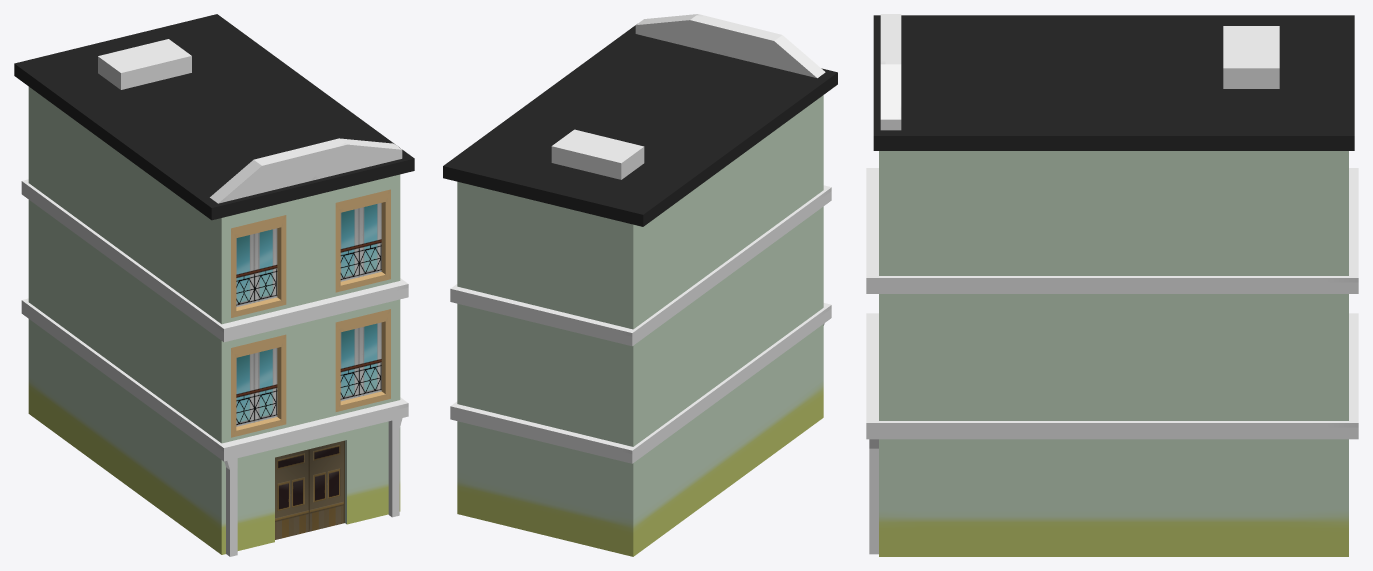
Rendered from French Balcony House 1.fbx.
The picture shows the model from 3 angles, left to right: view 1: azimuth 30°, elevation 25°; view 2: azimuth 150°, elevation 25°; view 3: azimuth 270°, elevation 25°; orthographic projection. The views are drawn at different scales.
Visible parts, largest first — view 1: French Balcony House 1; view 2: French Balcony House 1; view 3: French Balcony House 1.
Boxes of the visible parts, x1,y1,x2,y2 form: French Balcony House 1: [14, 14, 414, 556]; French Balcony House 1: [443, 14, 837, 556]; French Balcony House 1: [866, 14, 1358, 556].
Bounding box in the file's own units: 2.1 × 3.75 × 3.63.
